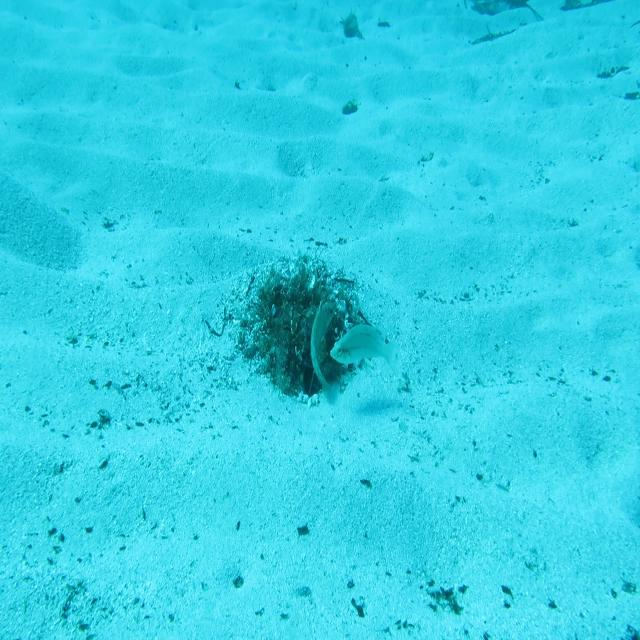BEND: (309, 293, 341, 409)
female: (329, 318, 402, 380)
nest: (240, 248, 379, 406)
